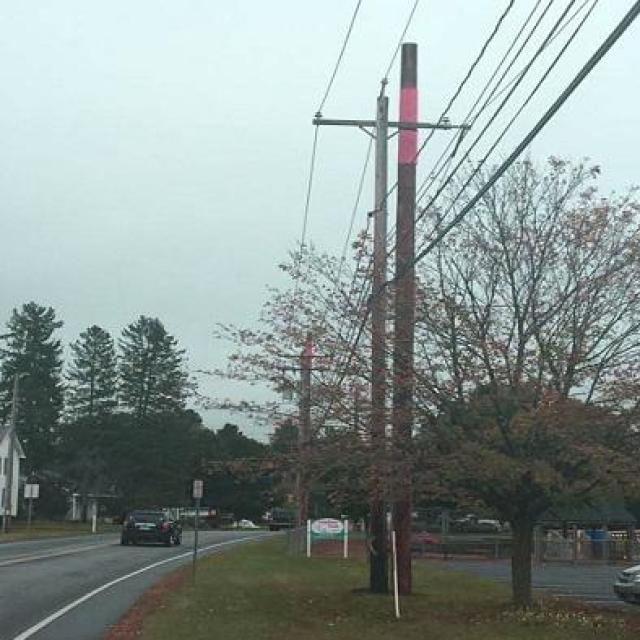non-critical vegetation: (307, 85, 406, 590)
